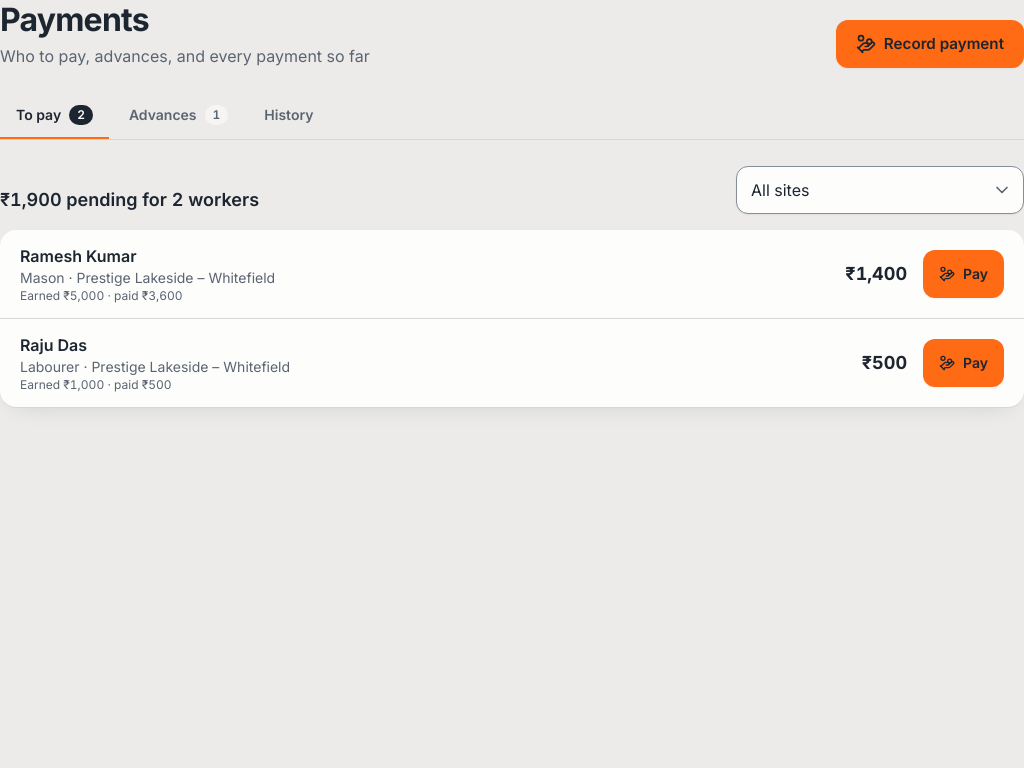
Test: PaymentsPage › lists dues with the total and pays a worker from the list
Check: the text "₹1,900 pending for 2 workers" is shown, box [0, 186, 259, 214]
Check: the link "Ramesh Kumar" is shown, box [20, 246, 136, 266]
Click the button with aria-label "Pay Ramesh Kumar": (964,274) [923, 250, 1004, 298]
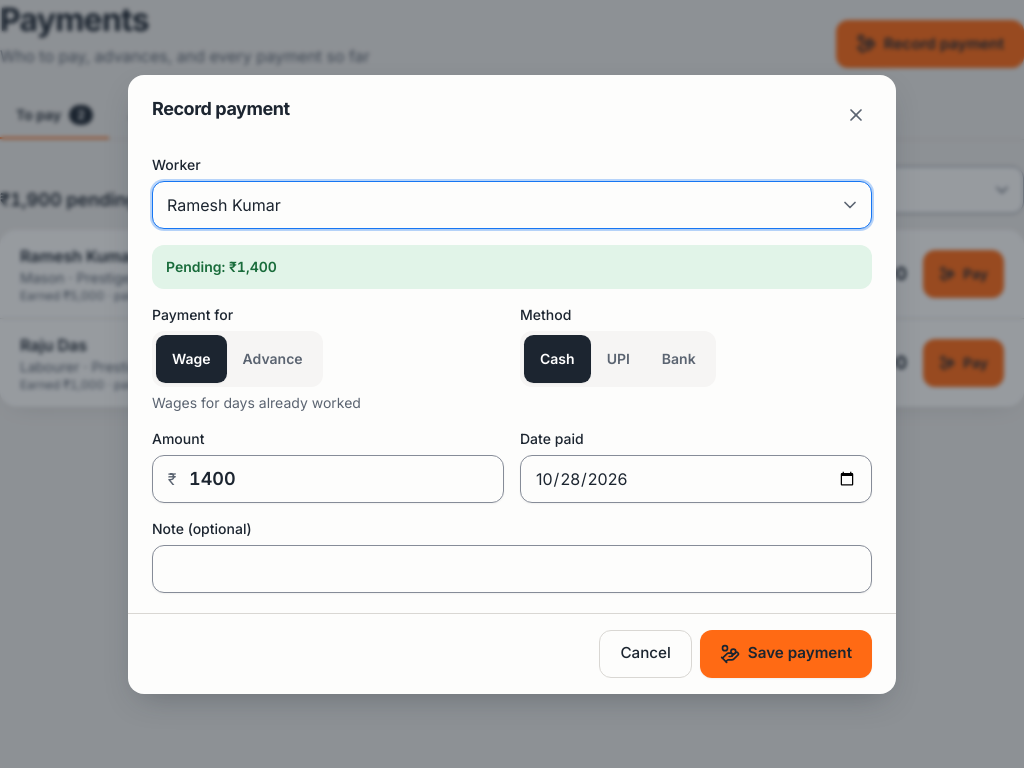
Check: the dropdown labelled "Worker" shows "Ramesh Kumar", box [152, 180, 872, 228]
